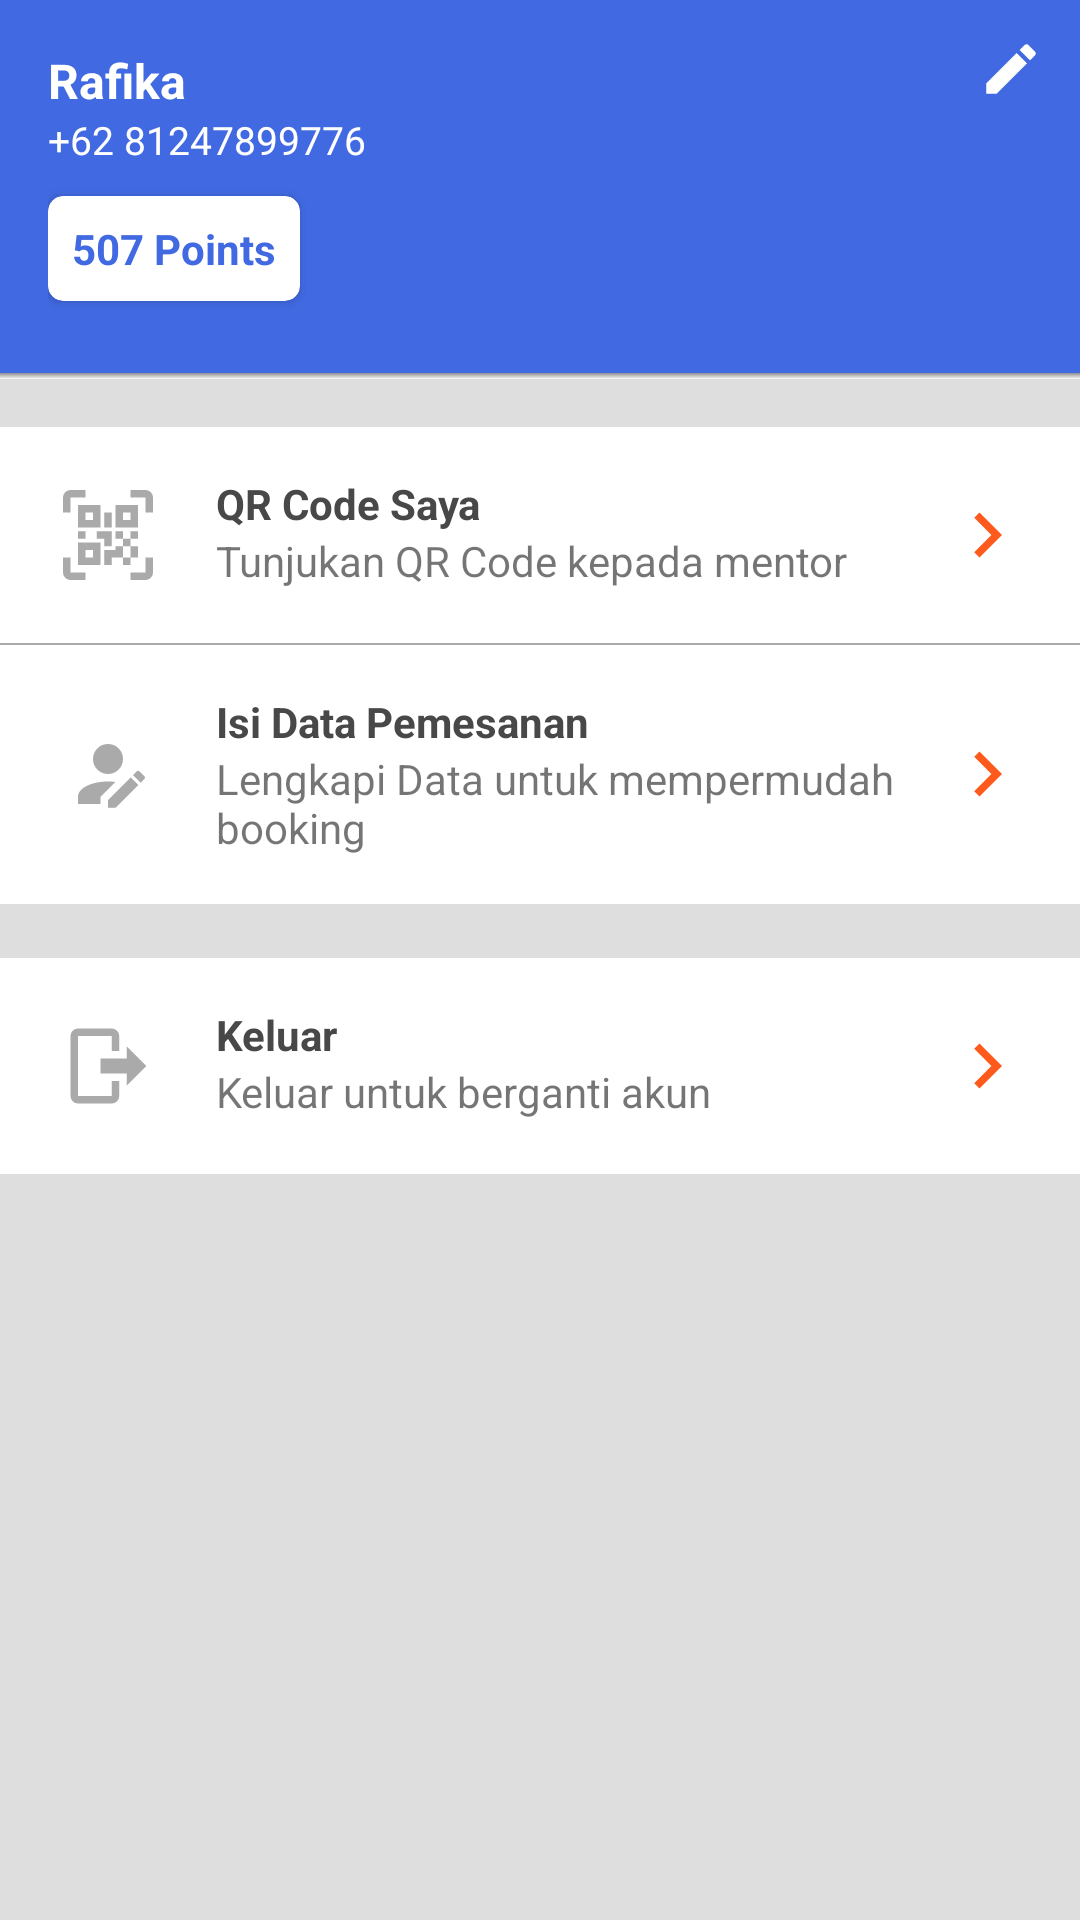

Screen size 1080*1920. Icon name, then its center in pixels as point (x, y):
account edit: point (111, 776)
chevron right: point (988, 535), point (988, 774), point (988, 1066)
mode edit: point (1011, 69)
qrcode scan: point (108, 535)
